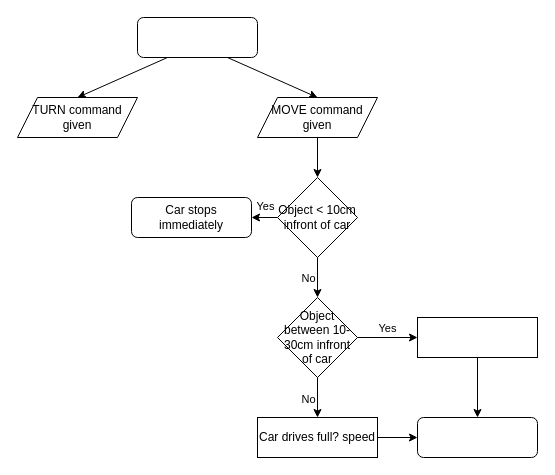
This 555x475 diagram has some shape labels left out. Here are the shapes that lost their labels. From the top down, the centre of each, then its label:
At (197,37): "Car in ESP Mode".
At (477,337): "Car drives at 30% speed".
At (477,437): "Car stops at distance given".
